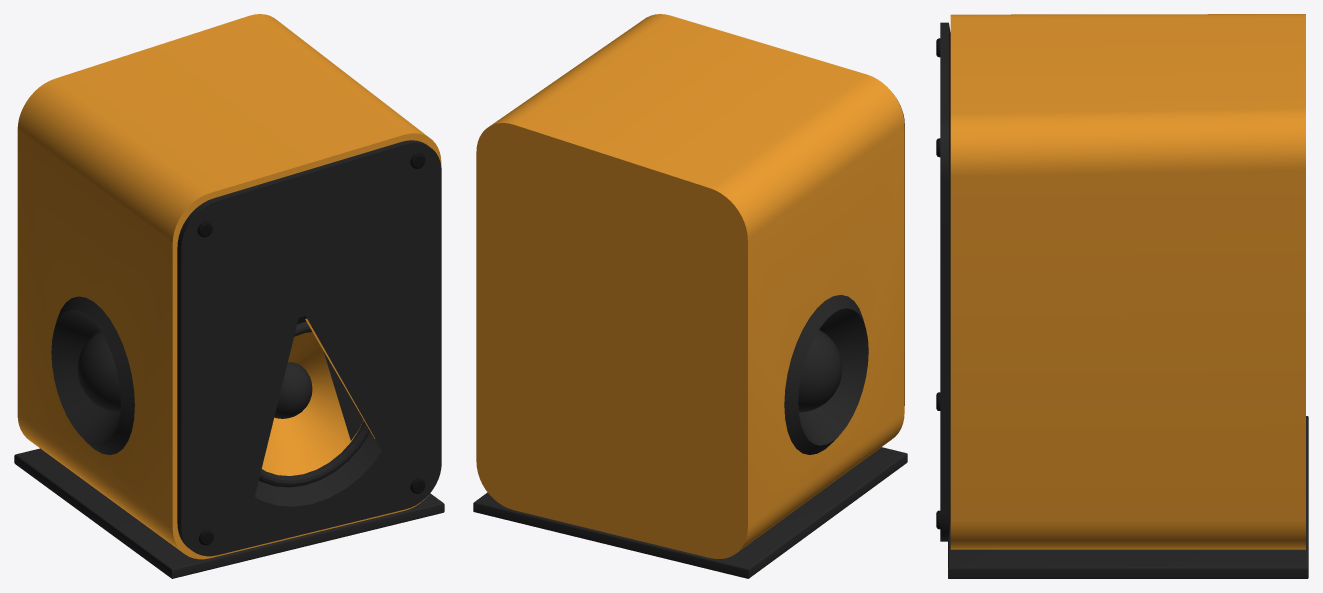
File: speakers.fbx
3 views of the same model, side by side, from view 1: azimuth 30°, elevation 25°; view 2: azimuth 150°, elevation 25°; view 3: azimuth 270°, elevation 25° (orthographic). The views are drawn at different scales.
Parts seen in each view (by area): view 1: Cube, Cube.004, Cube.003, Cube.002, Cube.005, Sphere.002, Cube.001, Sphere, Cylinder.001; view 2: Cube, Cube.003, Cube.002, Sphere.002; view 3: Cube, Cube.003, Cube.004.
Boxes of the visible parts, x1,y1,x2,y2 form: Cube: (17, 14, 441, 559); Cube.004: (177, 140, 441, 556); Cube.003: (14, 448, 444, 578); Cube.002: (51, 296, 134, 454); Cube.005: (261, 332, 363, 475); Sphere.002: (77, 331, 120, 412); Cube.001: (259, 322, 370, 487); Sphere: (274, 362, 312, 418); Cylinder.001: (197, 153, 425, 545); Cube: (476, 14, 904, 558); Cube.003: (473, 447, 907, 578); Cube.002: (784, 295, 868, 454); Sphere.002: (798, 329, 842, 412); Cube: (950, 14, 1305, 549); Cube.003: (948, 416, 1308, 578); Cube.004: (940, 22, 950, 541).
Bounding box in the file's own units: 210 × 279 × 209.
